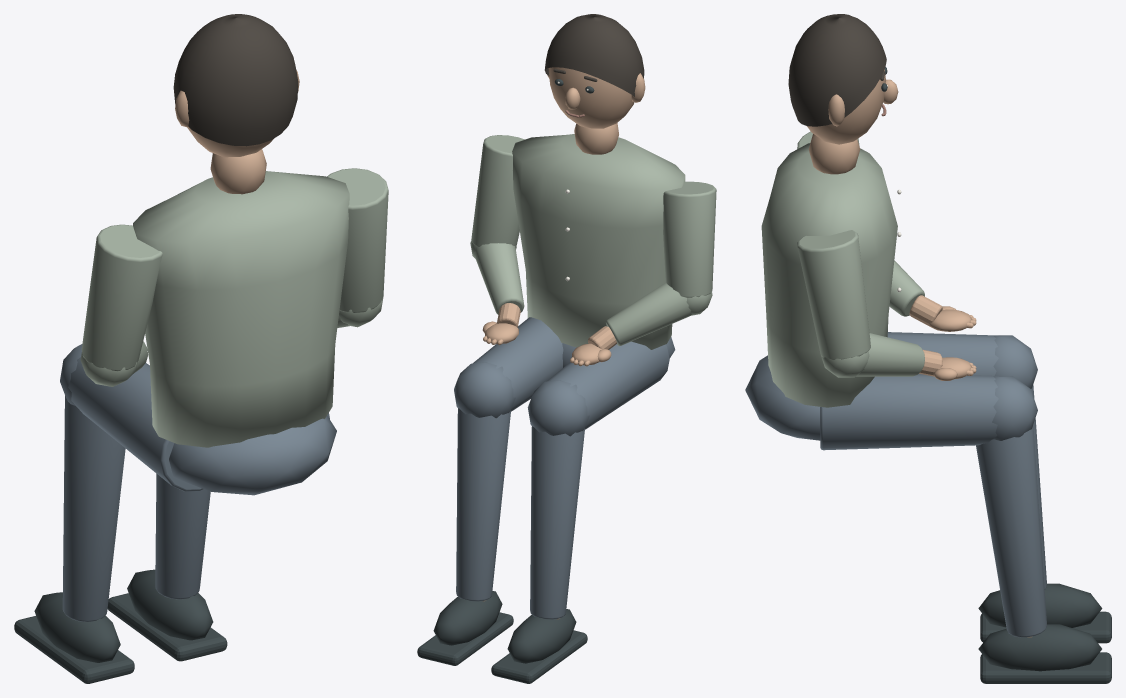
File: GuestSage.fbx
3 views of the same model, side by side, from view 1: azimuth 30°, elevation 25°; view 2: azimuth 150°, elevation 25°; view 3: azimuth 270°, elevation 25° (orthographic). The views are drawn at different scales.
Parts seen in each view (by area): view 1: Tailored shirt, Shaped short hair, Trousers lower leg, Shirt upper sleeve, Pelvis trousers, Trousers upper leg, Shirt upper sleeve.001, Trousers lower leg.001, Shoe upper, Shoe upper.001, Shoe sole, Shoe sole.001 (+4 smaller); view 2: Tailored shirt, Trousers lower leg, Trousers lower leg.001, Shirt upper sleeve, Shaped short hair, Trousers upper leg, Shirt upper sleeve.001, Trousers upper leg.001, Adult head, Shirt fore sleeve, Bent knee.001, Bent knee (+8 smaller); view 3: Tailored shirt, Trousers upper leg.001, Trousers lower leg.001, Shaped short hair, Shirt upper sleeve.001, Shoe upper.001, Pelvis trousers, Shoe upper, Trousers upper leg, Shoe sole.001, Bent knee.001, Shirt fore sleeve.001 (+9 smaller).
Part boxes in pixels (<box>): Tailored shirt: <box>133,171,349,447</box>; Shaped short hair: <box>173,14,298,146</box>; Trousers lower leg: <box>62,395,125,621</box>; Shirt upper sleeve: <box>81,224,162,371</box>; Pelvis trousers: <box>169,415,336,495</box>; Trousers upper leg: <box>68,357,203,491</box>; Shirt upper sleeve.001: <box>327,168,388,312</box>; Trousers lower leg.001: <box>155,473,210,599</box>; Shoe upper: <box>34,592,120,662</box>; Shoe upper.001: <box>127,569,213,640</box>; Shoe sole: <box>14,616,134,683</box>; Shoe sole.001: <box>107,593,227,661</box>; Tailored shirt: <box>512,134,685,349</box>; Trousers lower leg: <box>530,426,584,619</box>; Trousers lower leg.001: <box>456,408,510,601</box>; Shirt upper sleeve: <box>663,181,716,297</box>; Shaped short hair: <box>544,14,644,96</box>; Trousers upper leg: <box>547,341,669,429</box>; Shirt upper sleeve.001: <box>471,135,524,248</box>; Trousers upper leg.001: <box>473,317,563,411</box>; Adult head: <box>549,67,634,128</box>; Shirt fore sleeve: <box>606,282,692,346</box>; Bent knee.001: <box>454,362,515,418</box>; Bent knee: <box>527,380,589,436</box>; Tailored shirt: <box>761,143,897,407</box>; Trousers upper leg.001: <box>820,374,998,450</box>; Trousers lower leg.001: <box>976,425,1046,637</box>; Shaped short hair: <box>788,14,886,126</box>; Shirt upper sleeve.001: <box>797,230,870,359</box>; Shoe upper.001: <box>978,624,1101,671</box>; Pelvis trousers: <box>745,355,820,440</box>; Shoe upper: <box>978,583,1102,627</box>; Trousers upper leg: <box>887,332,998,375</box>; Shoe sole.001: <box>980,652,1111,683</box>; Bent knee.001: <box>992,376,1037,440</box>; Shirt fore sleeve.001: <box>856,333,924,376</box>.
Bounding box in the file's own units: 64.84 × 149 × 78.
